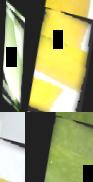Ripe: (25, 7, 93, 112), (0, 135, 25, 182)
Unripe: (28, 115, 93, 182), (0, 6, 25, 111)
